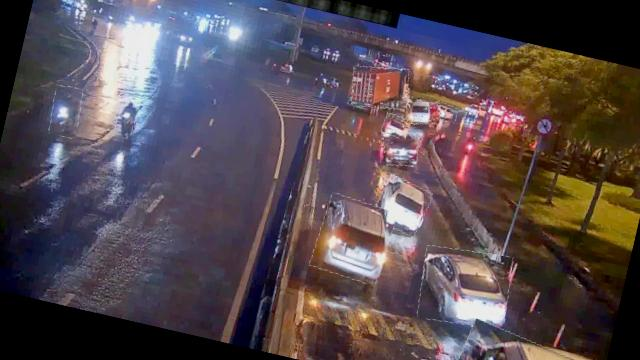Bike: (46, 84, 85, 140), (114, 96, 140, 138)
Bus: (449, 321, 607, 360), (404, 98, 444, 129)
Car: (413, 241, 518, 334), (310, 192, 397, 286), (372, 174, 434, 236), (376, 127, 422, 170), (381, 112, 411, 138), (433, 102, 460, 124)
Truck: (348, 60, 413, 114)
